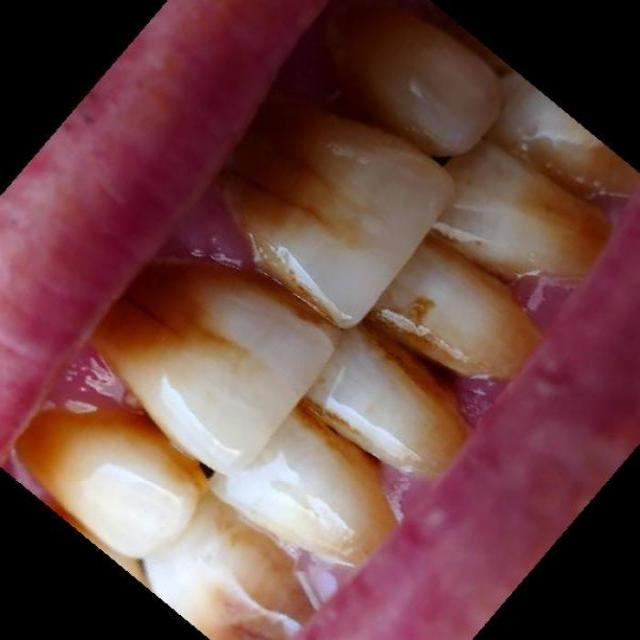CALCULUS: (222, 94, 454, 328), (91, 261, 341, 473), (211, 409, 397, 565), (16, 409, 207, 559), (304, 325, 471, 477), (433, 140, 613, 281), (144, 494, 313, 640), (370, 239, 539, 379), (487, 72, 640, 199)
